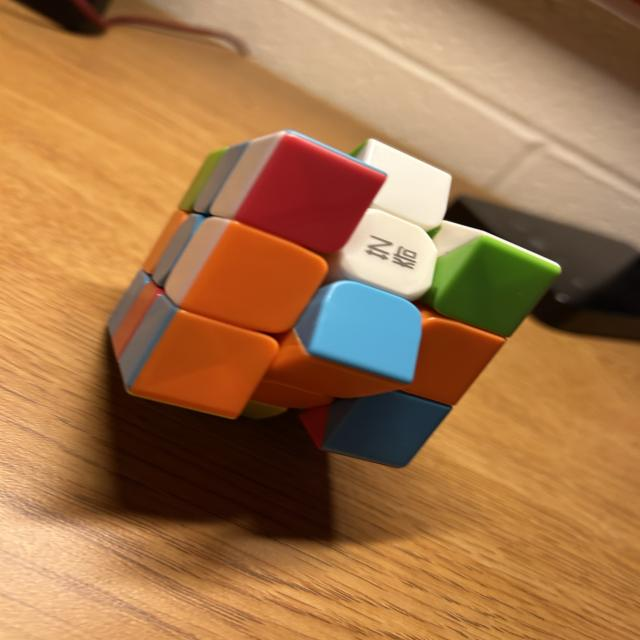Rubiks Cube: (103, 130, 560, 469)
